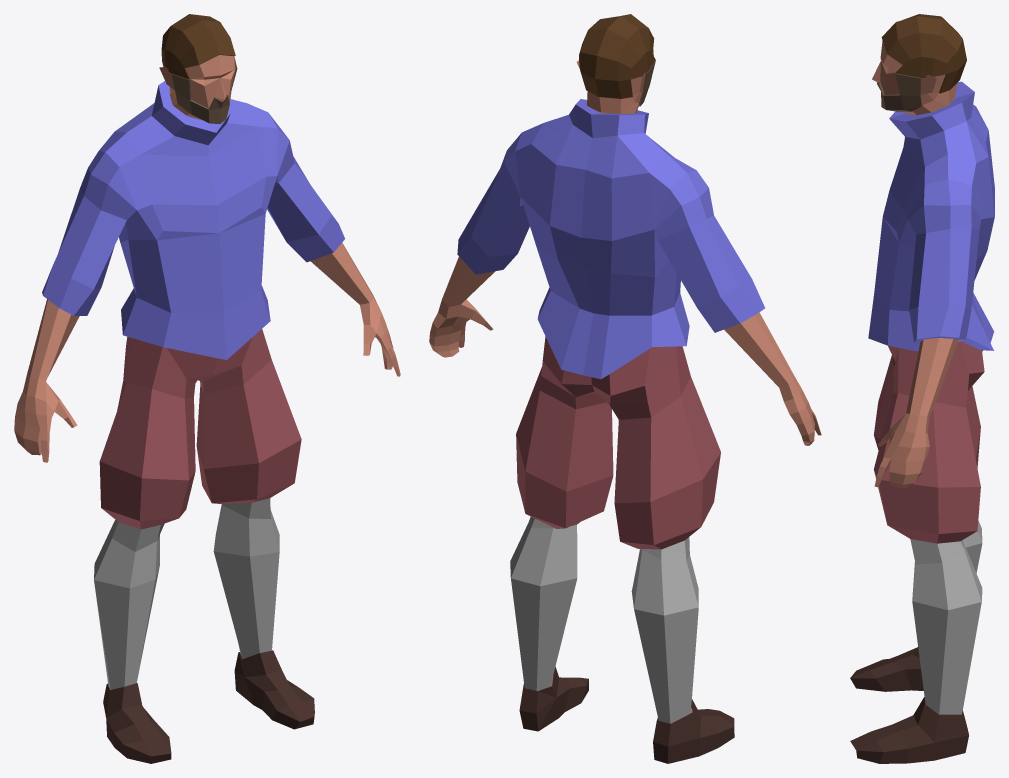
The model's file is don-pedro.fbx.
3 views of the same model, side by side, from view 1: azimuth 30°, elevation 25°; view 2: azimuth 150°, elevation 25°; view 3: azimuth 270°, elevation 25° (orthographic).
Visible parts, largest first — view 1: clothes, pants, male, shoes, hair, beard; view 2: clothes, pants, male, shoes, hair; view 3: clothes, pants, male, shoes, hair, beard.
Part boxes in pixels (x1=…): clothes: x1=42, y1=81, x2=344, y2=359; pants: x1=94, y1=329, x2=301, y2=689; male: x1=14, y1=55, x2=400, y2=659; shoes: x1=103, y1=650, x2=314, y2=763; hair: x1=161, y1=14, x2=236, y2=79; beard: x1=171, y1=68, x2=237, y2=124; clothes: x1=457, y1=99, x2=764, y2=379; pants: x1=510, y1=336, x2=720, y2=723; male: x1=429, y1=50, x2=821, y2=712; shoes: x1=519, y1=666, x2=734, y2=763; hair: x1=579, y1=14, x2=655, y2=98; clothes: x1=868, y1=81, x2=994, y2=351; pants: x1=874, y1=341, x2=984, y2=714; male: x1=872, y1=41, x2=958, y2=704; shoes: x1=850, y1=647, x2=968, y2=763; hair: x1=881, y1=14, x2=966, y2=93; beard: x1=876, y1=73, x2=921, y2=111.
Size of the model in its own units: 196 by 352 by 65.72.
